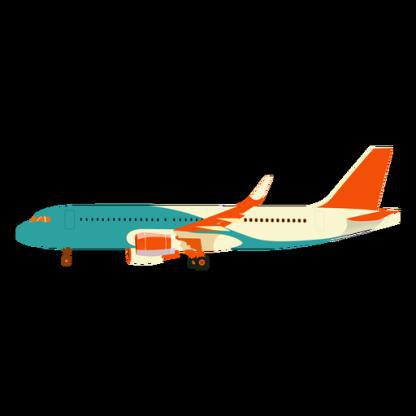CIV_Plane: (11, 141, 403, 274)
